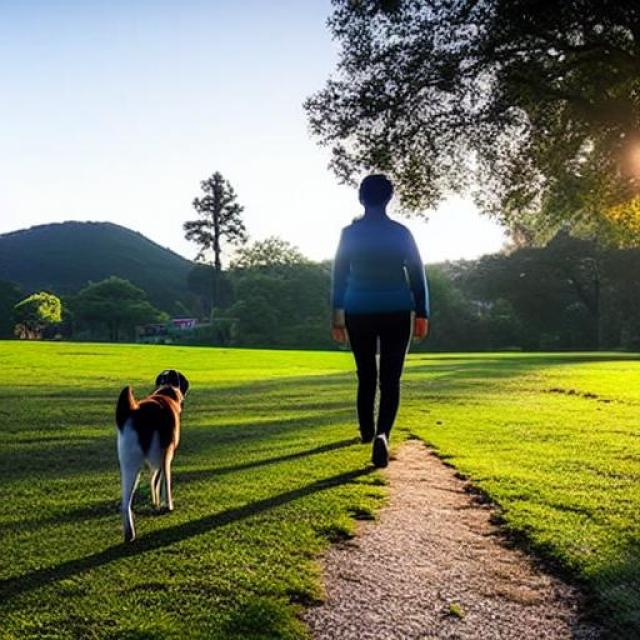Unleashed_Dog: (116, 320, 412, 542)
